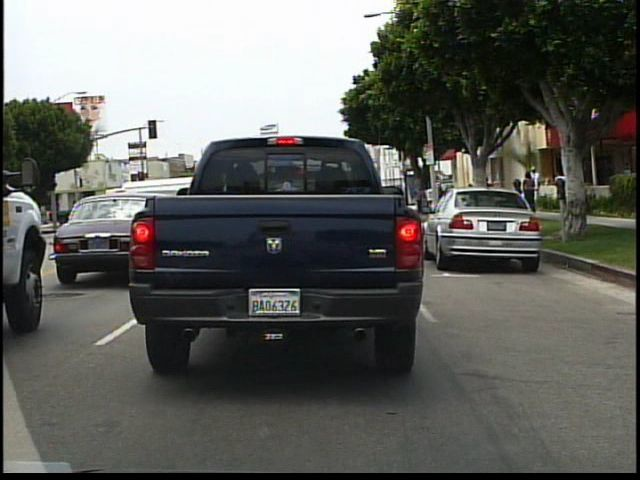person: (480, 172, 498, 215), (551, 167, 565, 180)
